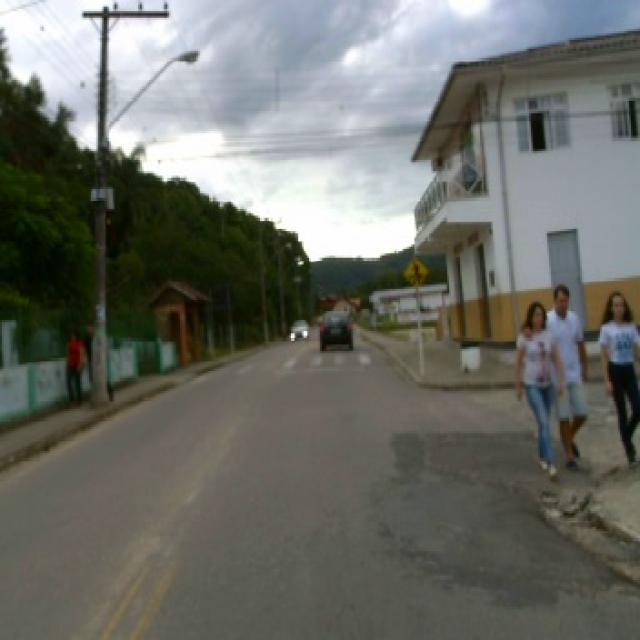Poth-hole: (532, 486, 636, 592)
